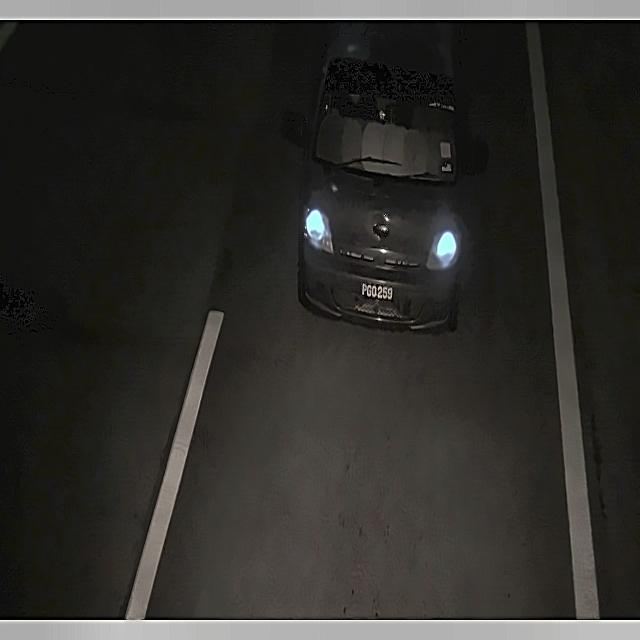car: (354, 274, 401, 308)
